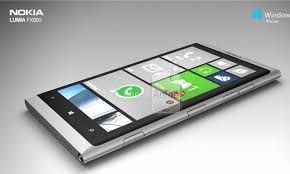nokia: (24, 37, 279, 165)
